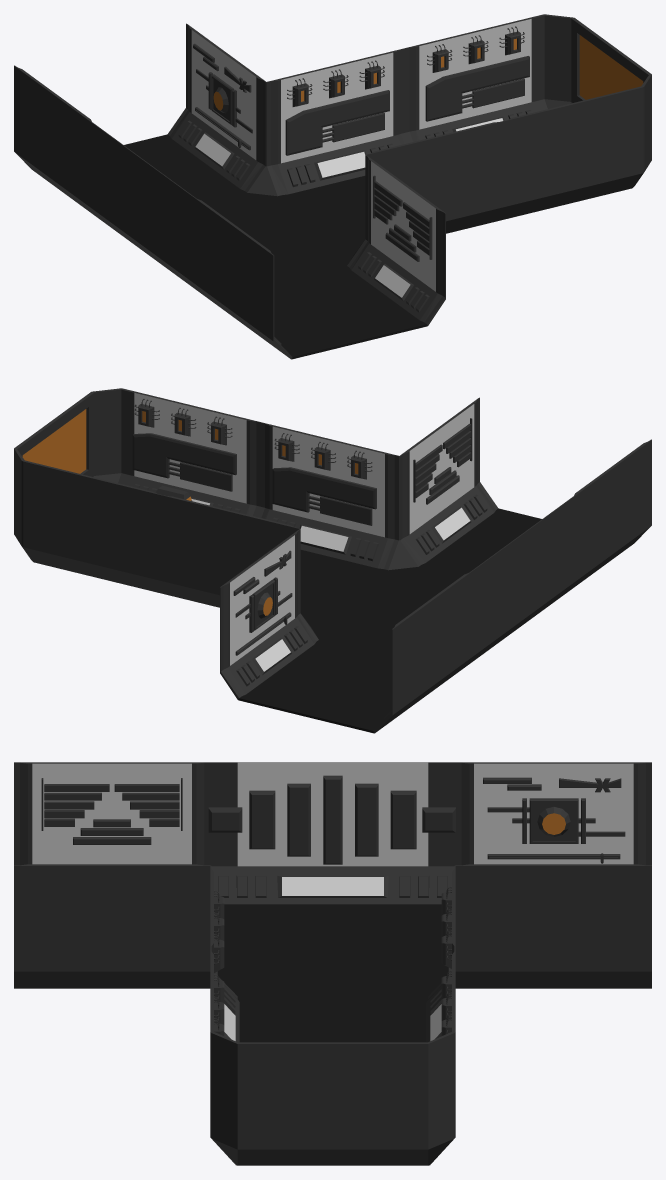
Rendered from T-stuk-dicht.fbx.
The picture shows the model from 3 angles, top to bottom: view 1: azimuth 30°, elevation 25°; view 2: azimuth 150°, elevation 25°; view 3: azimuth 270°, elevation 25°; orthographic projection. The views are drawn at different scales.
Parts seen in each view (by area): view 1: T_stuk_dicht; view 2: T_stuk_dicht; view 3: T_stuk_dicht.
Part boxes in pixels (left/top/right/bottom): T_stuk_dicht: left=14, top=14, right=651, bottom=359; T_stuk_dicht: left=14, top=388, right=651, bottom=733; T_stuk_dicht: left=14, top=762, right=651, bottom=1165.
Bounding box in the file's own units: 2718 × 600 × 2600.
